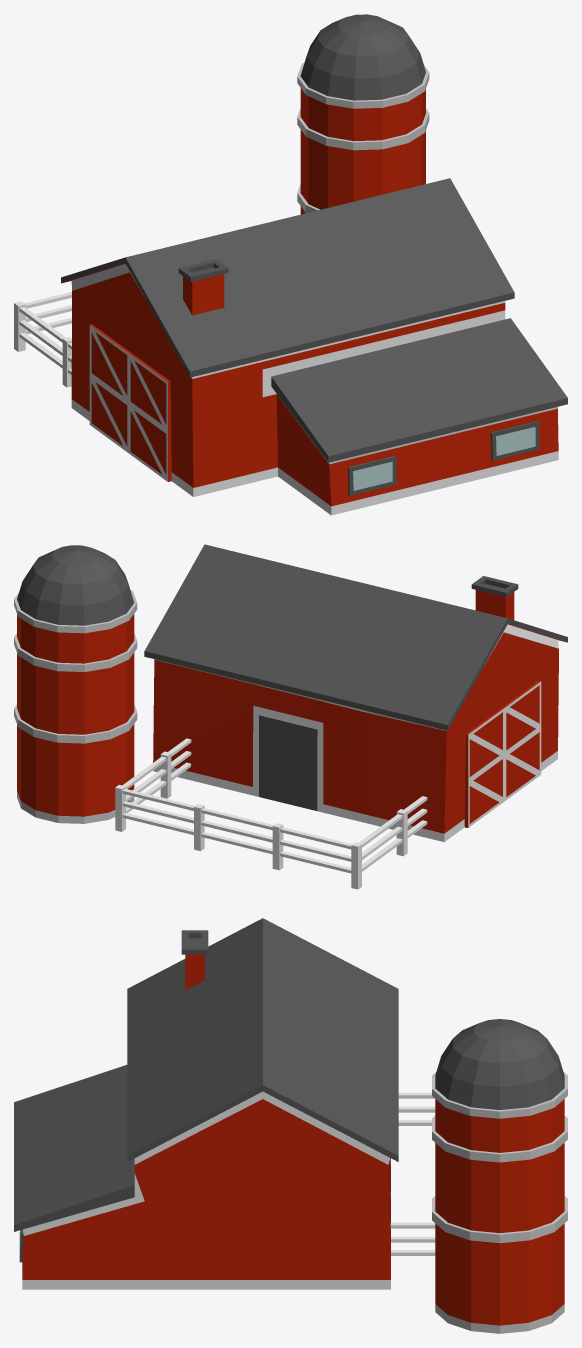
File: barn.glb
3 renders of one model, top to bottom at view 1: azimuth 30°, elevation 25°; view 2: azimuth 150°, elevation 25°; view 3: azimuth 270°, elevation 25°, orthographic. The views are drawn at different scales.
Parts seen in each view (by area): view 1: 1267 Farm; view 2: 1267 Farm; view 3: 1267 Farm.
Boxes of the visible parts, left/top/right/bottom form: 1267 Farm: left=14, top=14, right=567, bottom=515; 1267 Farm: left=14, top=544, right=567, bottom=889; 1267 Farm: left=14, top=918, right=567, bottom=1333.
Size of the model in its own units: 194 by 121 by 216.
Materials: 1 (1 with a texture image).
